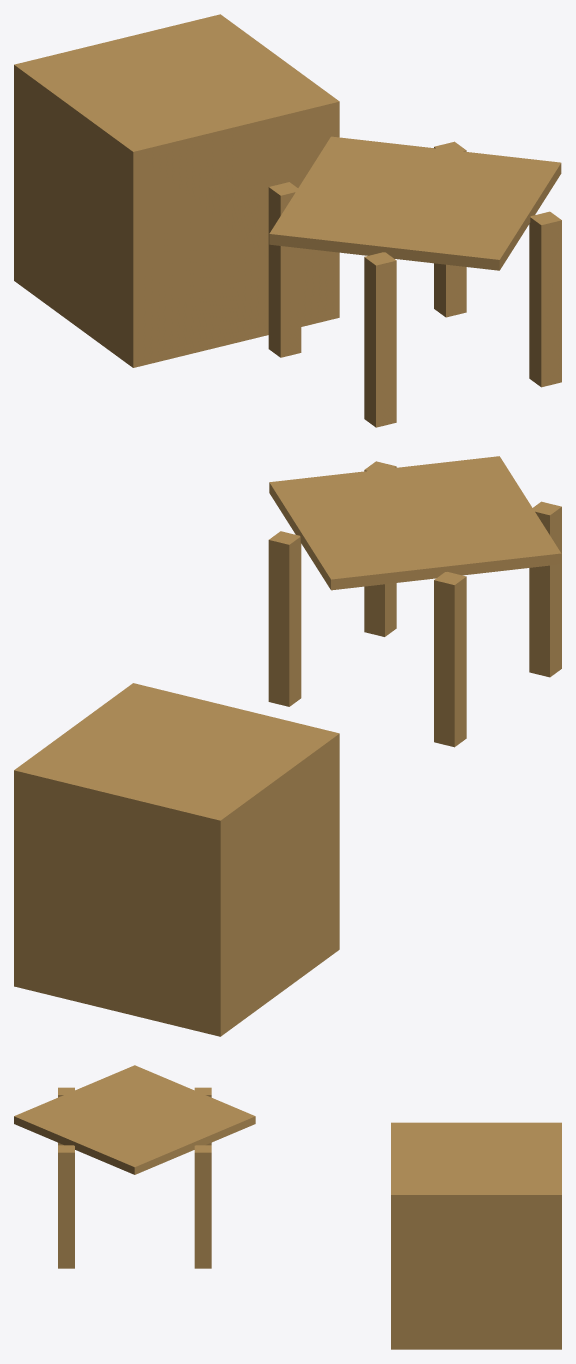
File: hierarchie.glb
3 views of the same model, one above another, from view 1: azimuth 30°, elevation 25°; view 2: azimuth 150°, elevation 25°; view 3: azimuth 270°, elevation 25° (orthographic). The views are drawn at different scales.
Parts seen in each view (by area): view 1: Gespiegelt, Platte, Bein.2, Bein.1, Bein.4, Bein.3; view 2: Gespiegelt, Platte, Bein.3, Bein.4, Bein.2, Bein.1; view 3: Gespiegelt, Platte, Bein.3, Bein.1.
Boxes of the visible parts, x1=… form: Gespiegelt: x1=14, y1=14, x2=339, y2=367; Platte: x1=269, y1=136, x2=561, y2=270; Bein.2: x1=364, y1=252, x2=396, y2=427; Bein.1: x1=529, y1=211, x2=561, y2=387; Bein.4: x1=268, y1=182, x2=301, y2=357; Bein.3: x1=434, y1=141, x2=466, y2=317; Gespiegelt: x1=14, y1=683, x2=339, y2=1036; Platte: x1=269, y1=456, x2=561, y2=590; Bein.3: x1=268, y1=531, x2=301, y2=706; Bein.4: x1=434, y1=572, x2=466, y2=747; Bein.2: x1=529, y1=501, x2=561, y2=677; Bein.1: x1=364, y1=461, x2=396, y2=636; Gespiegelt: x1=391, y1=1122, x2=561, y2=1349; Platte: x1=14, y1=1065, x2=255, y2=1174; Bein.3: x1=194, y1=1145, x2=211, y2=1268; Bein.1: x1=58, y1=1145, x2=74, y2=1268.
Bounding box in the file's own units: 1.41 × 1.27 × 3.21.
